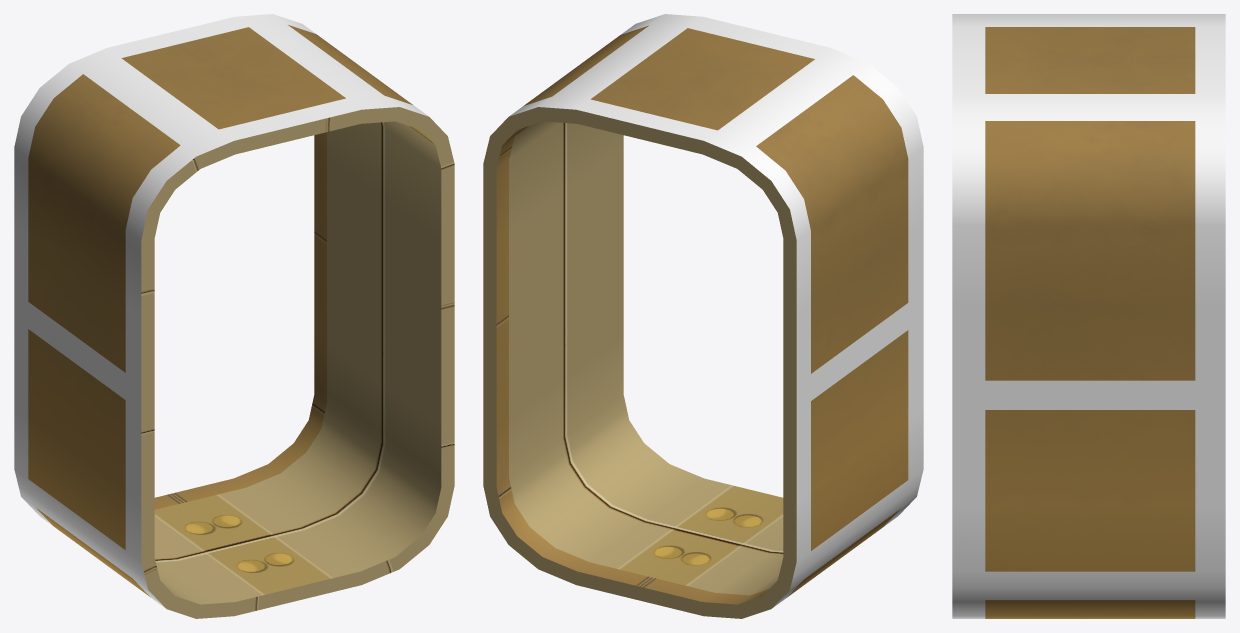
The model's file is Big_Wall_Door_A.001.fbx.
3 renders of one model, left to right at view 1: azimuth 30°, elevation 25°; view 2: azimuth 150°, elevation 25°; view 3: azimuth 270°, elevation 25°, orthographic. The views are drawn at different scales.
Visible parts, largest first — view 1: Big_Wall_Door_A.001; view 2: Big_Wall_Door_A.001; view 3: Big_Wall_Door_A.001.
Part boxes in pixels (bbox=[...]): Big_Wall_Door_A.001: bbox=[14, 14, 454, 618]; Big_Wall_Door_A.001: bbox=[483, 14, 923, 618]; Big_Wall_Door_A.001: bbox=[952, 14, 1225, 618].
Bounding box in the file's own units: 1.32 × 1.91 × 0.9246.
